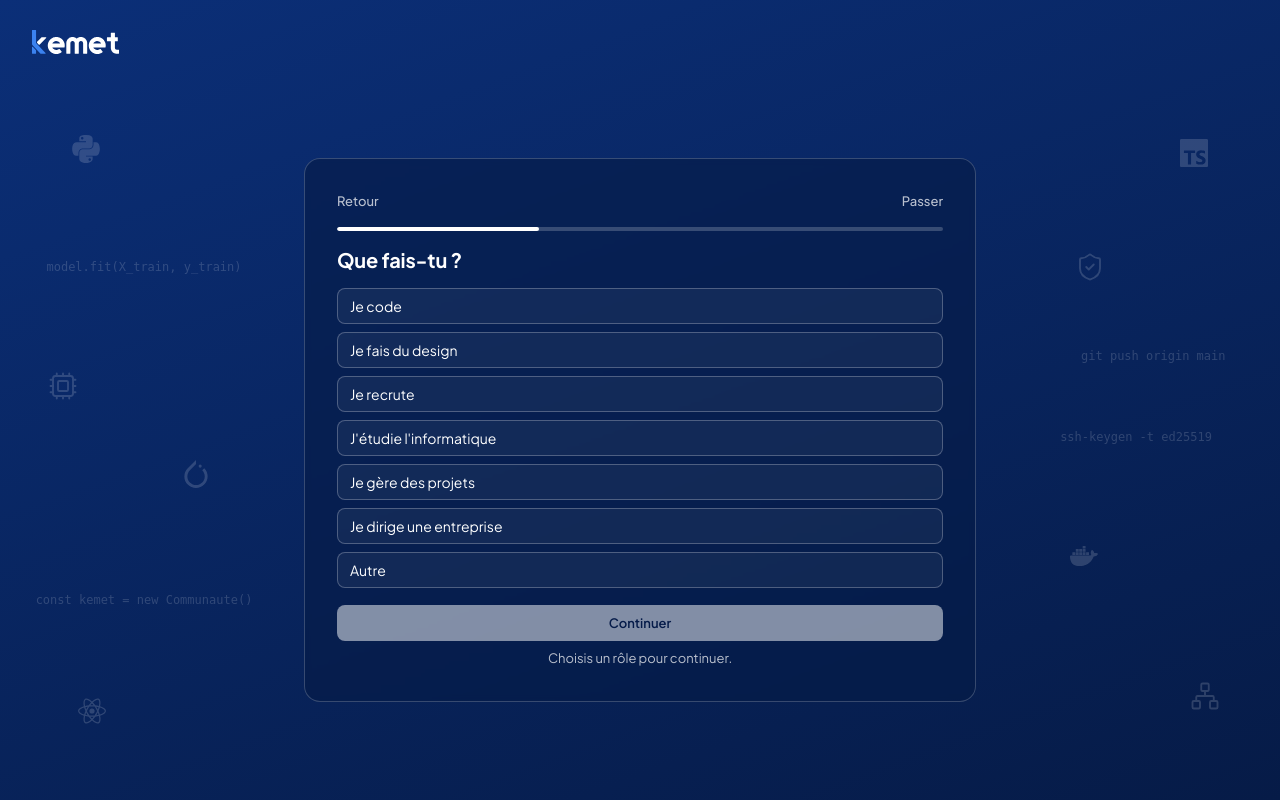
Scenario: OnboardingPage › Retour revient à l'écran précédent ; le premier écran n'en a pas
The image size is (1280, 800).
Click the button "Retour": (358, 201) [329,183,387,219]
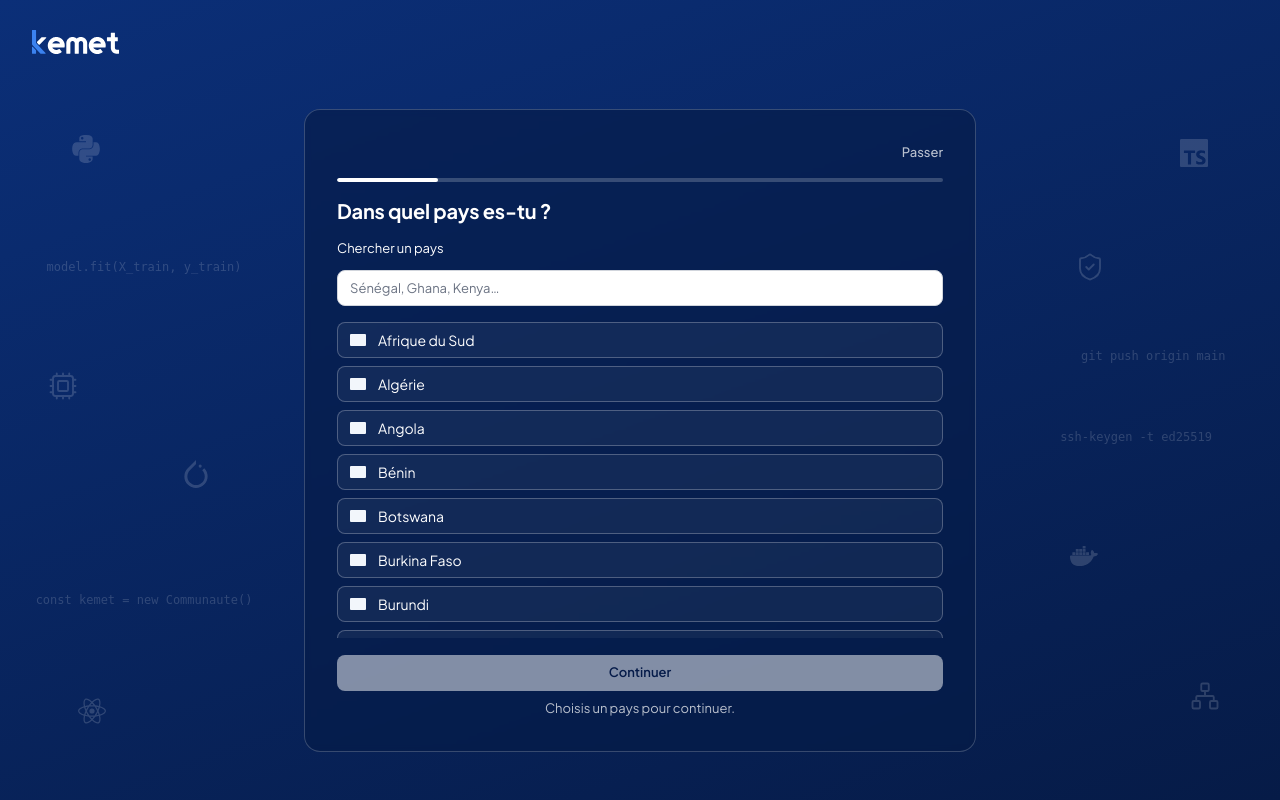
Expected: the heading "Dans quel pays es-tu ?" is shown, [337,198,551,222]
Expected: the button "Retour" is gone
